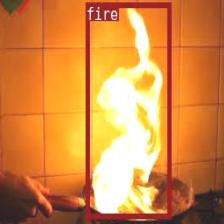fire: (85, 2, 170, 218)
